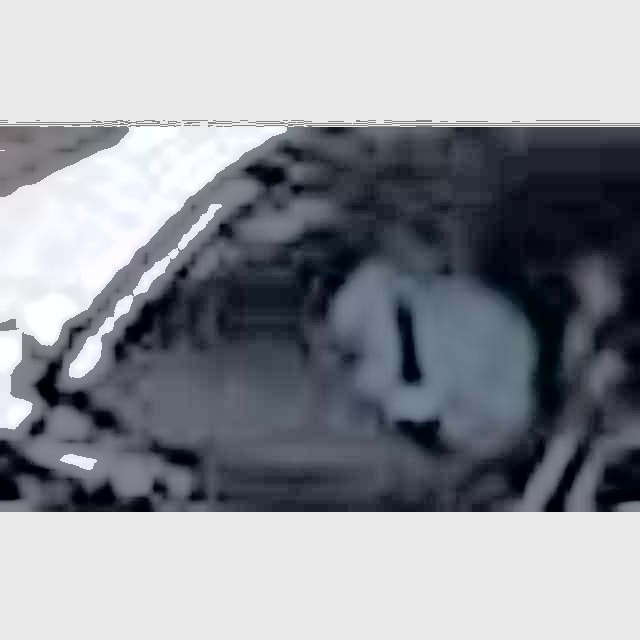pakai: (311, 202, 536, 466)
